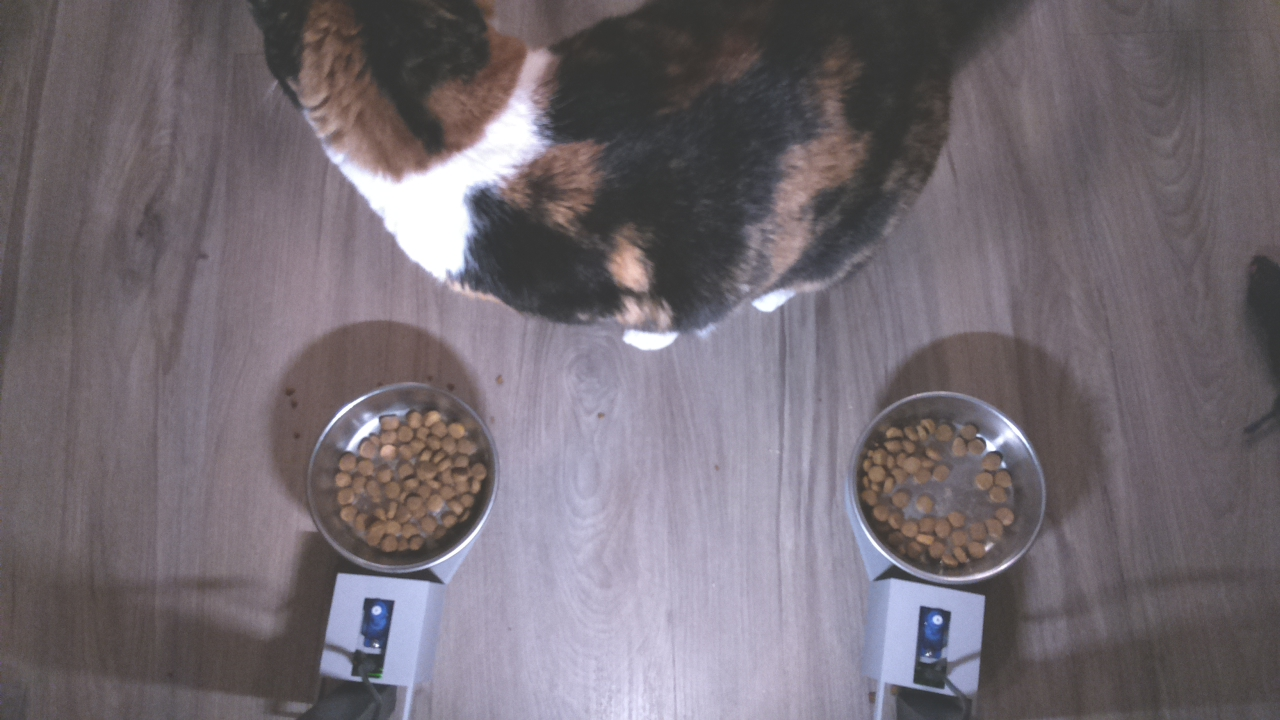open_bowl: (304, 375, 504, 584), (852, 389, 1051, 580)
